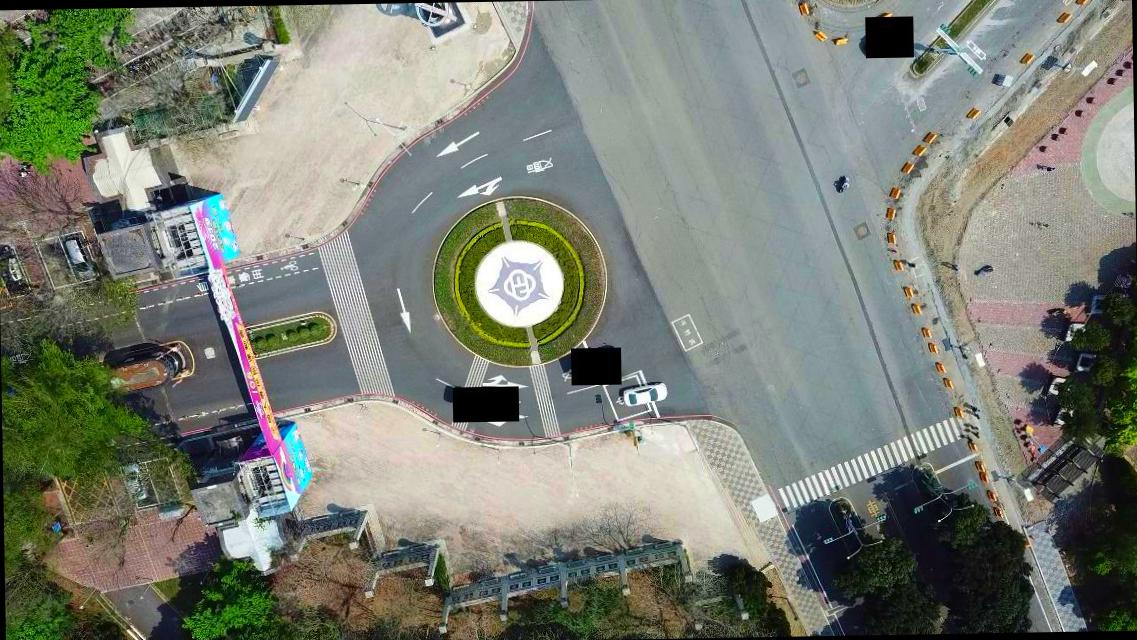vehicle: (65, 232, 98, 280), (0, 245, 28, 293), (622, 381, 668, 406), (123, 462, 149, 501)
